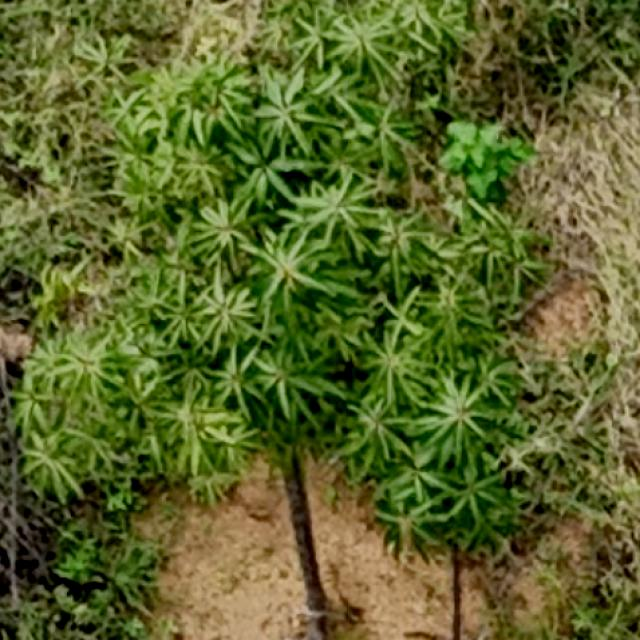mangoTree: (11, 0, 544, 555)
